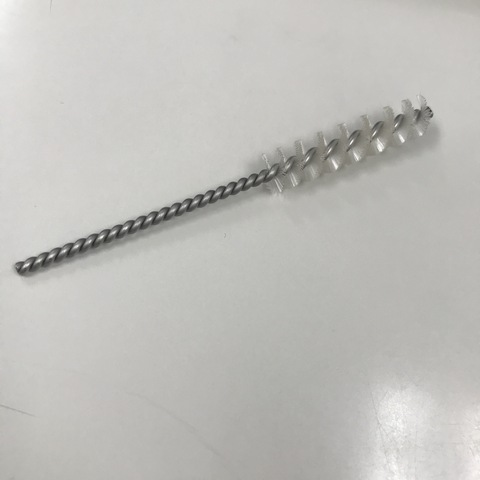Twist Brush-B: (13, 91, 435, 276)
